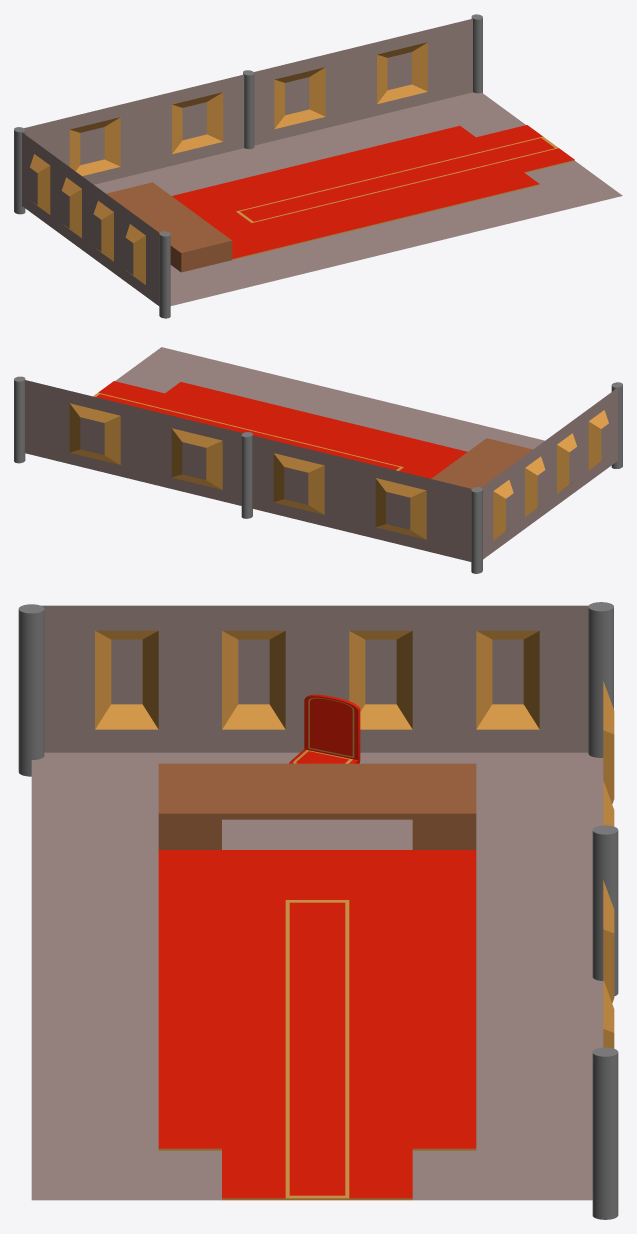
The model's file is INDOOR CASTLE.fbx.
3 renders of one model, top to bottom at view 1: azimuth 30°, elevation 25°; view 2: azimuth 150°, elevation 25°; view 3: azimuth 270°, elevation 25°, orthographic. The views are drawn at different scales.
Parts seen in each view (by area): view 1: Plane, Plane.001; view 2: Plane, Plane.001; view 3: Plane, Plane.001, Cube.
Boxes of the visible parts, left/top/right/bottom form: Plane: left=22, top=18, right=622, bottom=305; Plane.001: left=14, top=14, right=482, bottom=318; Plane: left=25, top=347, right=617, bottom=561; Plane.001: left=14, top=376, right=622, bottom=573; Plane: left=31, top=605, right=614, bottom=1200; Plane.001: left=18, top=602, right=618, bottom=1219; Cube: left=289, top=694, right=360, bottom=763.
Bounding box in the file's own units: 37701 × 6247 × 20803.
